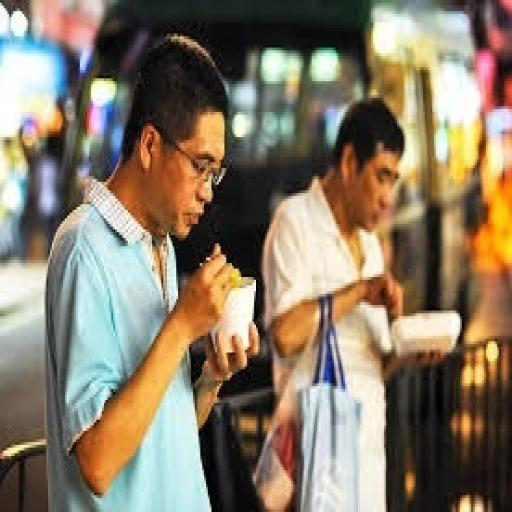eating: (42, 31, 262, 509), (258, 92, 449, 510)
